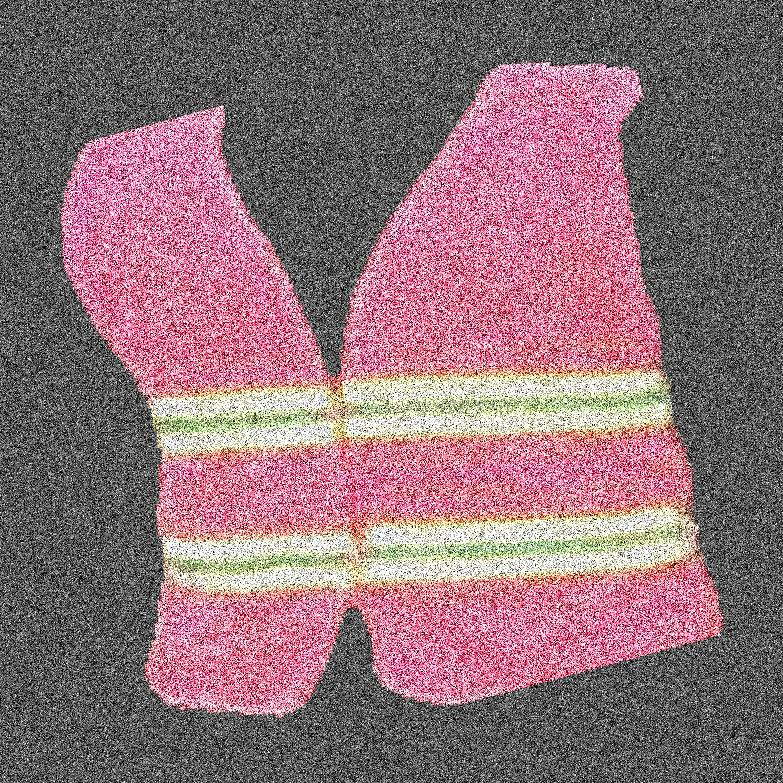Colete: (414, 0, 782, 782)
